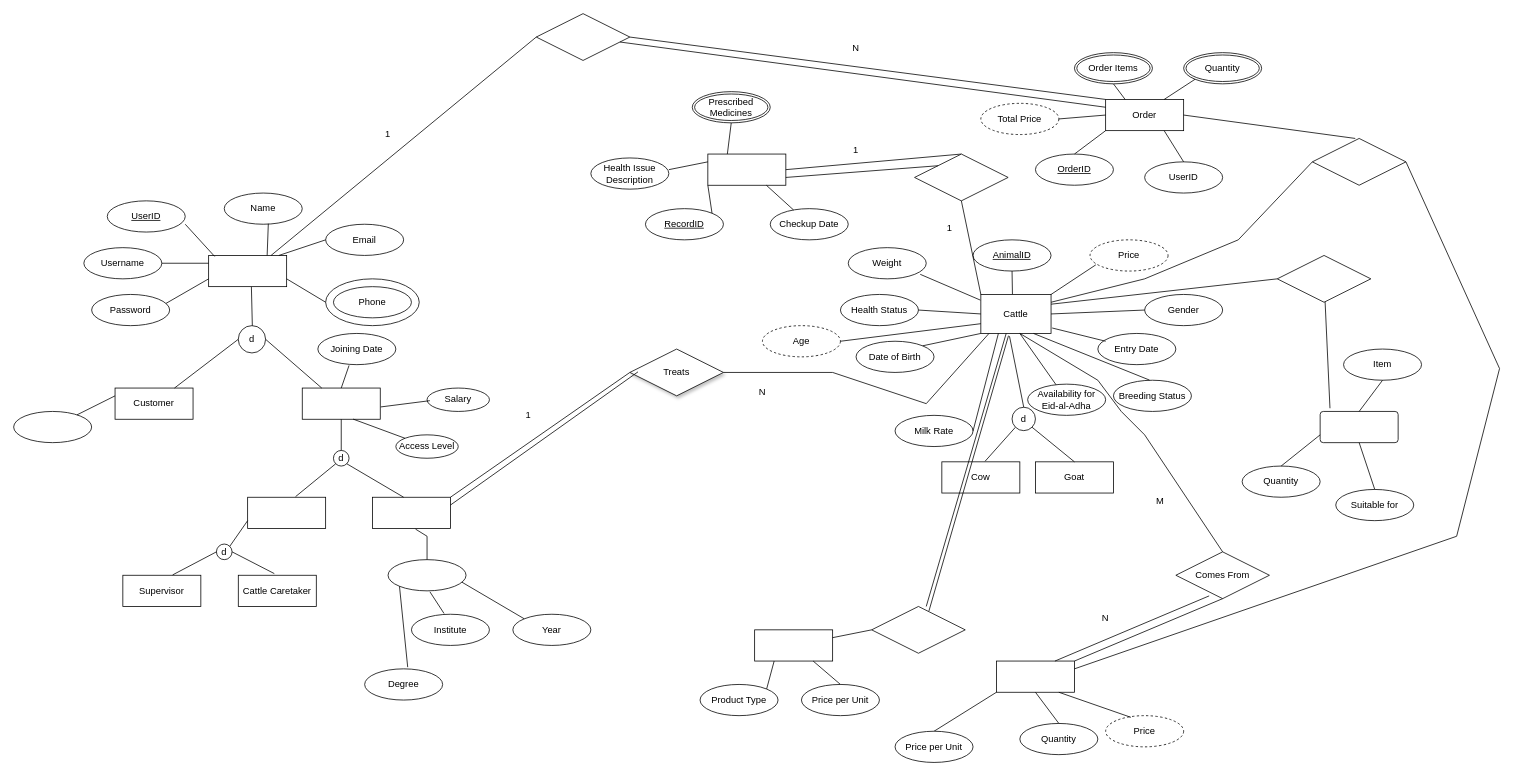
Image size: 1514x776. Some labels were removed from this diagram. Each missing label, with the centre of its shape:
Add to Cart: point (582, 36)
Address: point (52, 427)
Eats: point (1323, 278)
Employee: point (340, 403)
Feed: point (1358, 427)
Has: point (918, 629)
Have: point (961, 177)
Medical History: point (746, 169)
Milk: point (1035, 676)
Ordered: point (1359, 161)
Price Standard: point (793, 645)
Qualifications: point (426, 575)
Staff: point (286, 512)
User: point (247, 271)
VET: point (411, 512)
